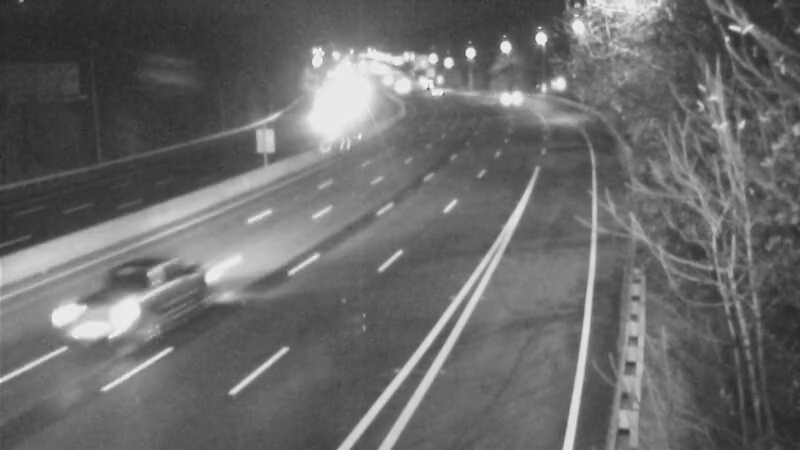vehicle: (49, 255, 159, 365), (397, 58, 447, 108), (358, 54, 408, 104), (377, 61, 427, 111), (408, 66, 458, 116), (489, 75, 539, 125), (295, 90, 345, 140)
